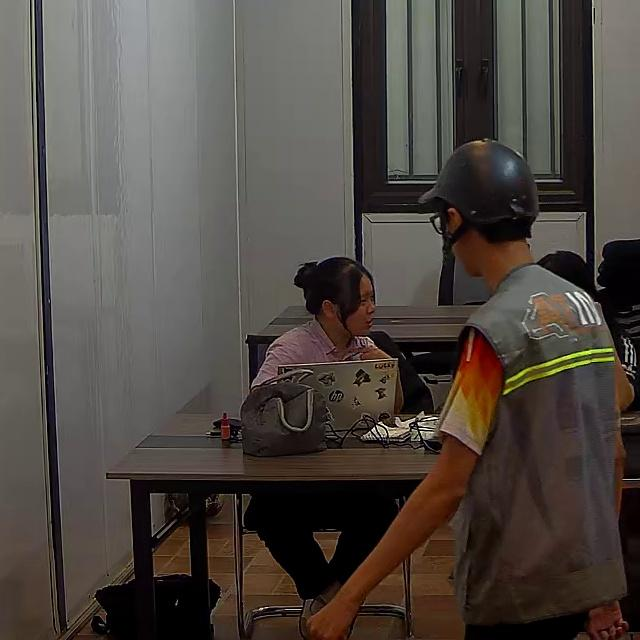helmet: (415, 138, 539, 228)
no_helmet: (294, 255, 375, 318)
none: (250, 319, 379, 394), (598, 296, 639, 408)
vest: (449, 270, 625, 622)
